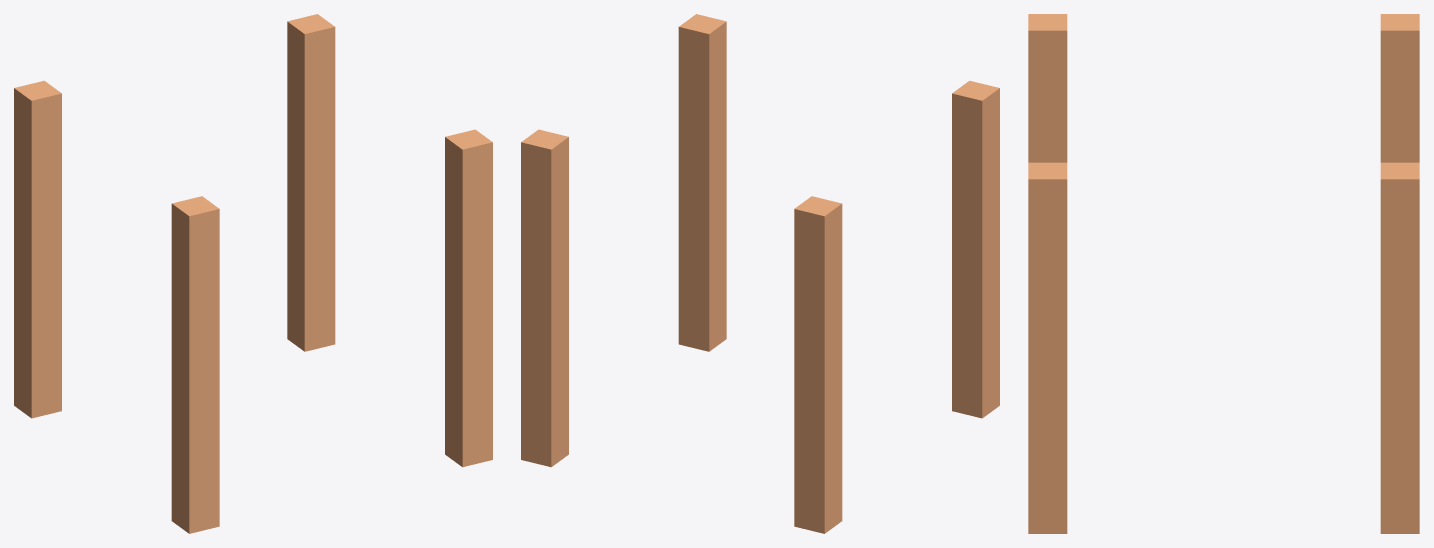
File: Columns_001.fbx
The picture shows the model from 3 angles, left to right: view 1: azimuth 30°, elevation 25°; view 2: azimuth 150°, elevation 25°; view 3: azimuth 270°, elevation 25°; orthographic projection. The views are drawn at different scales.
Parts seen in each view (by area): view 1: Collumns.001; view 2: Collumns.001; view 3: Collumns.001.
Part boxes in pixels (<box>): Collumns.001: <box>14,14,492,533</box>; Collumns.001: <box>521,14,999,533</box>; Collumns.001: <box>1028,14,1419,533</box>.
Size of the model in its own units: 100 by 100 by 100.
